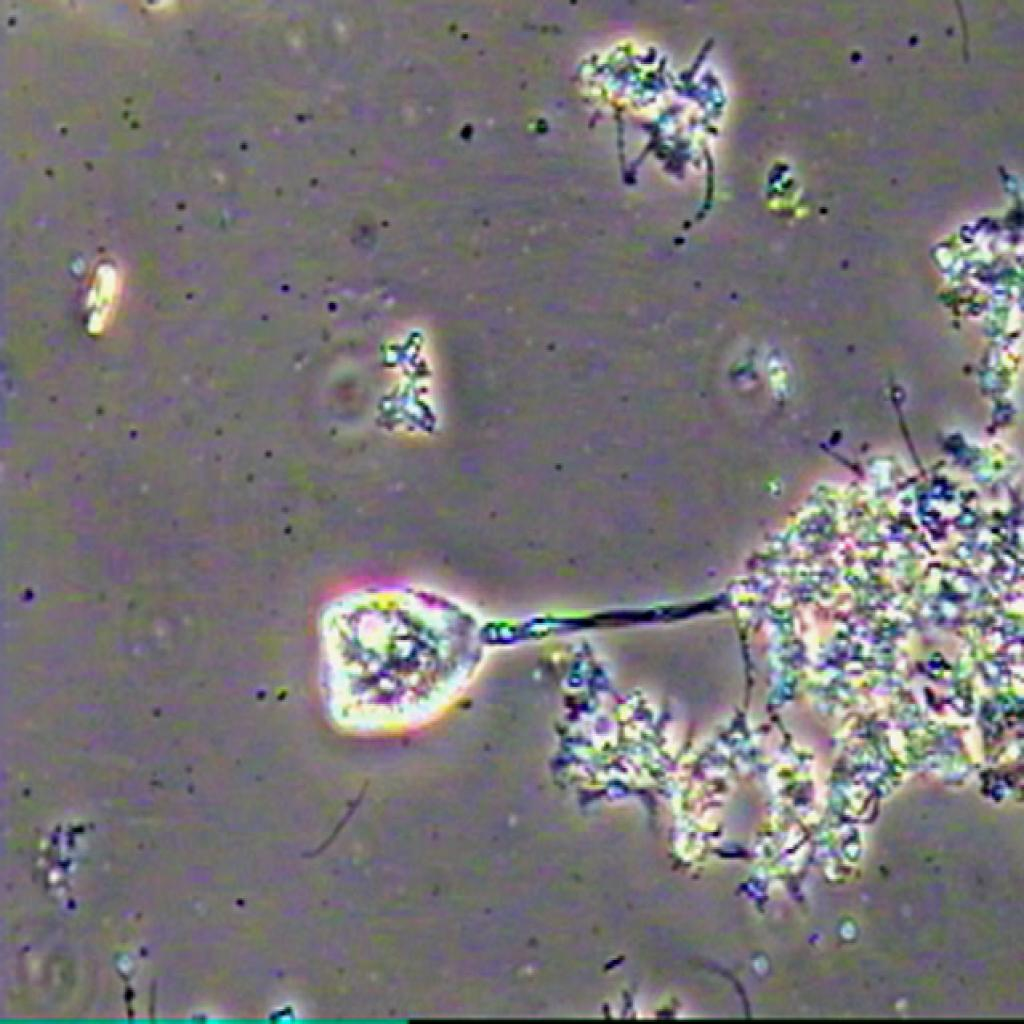Vorticella: (277, 532, 753, 744)
